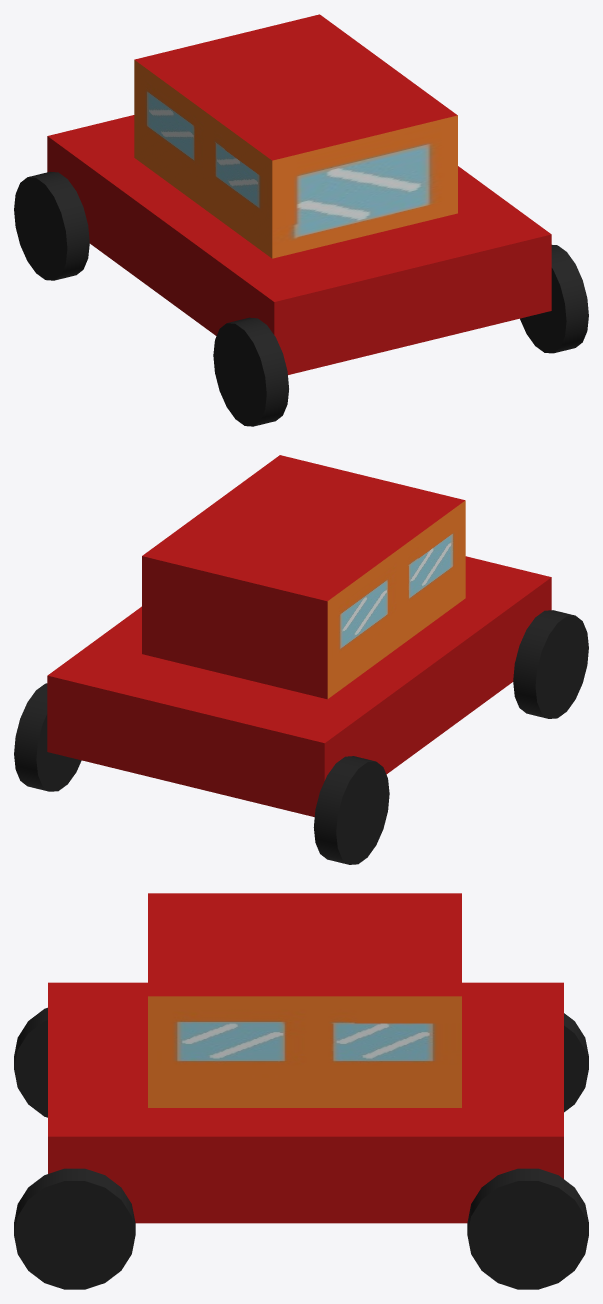
File: car_red.FBX
The picture shows the model from 3 angles, top to bottom: view 1: azimuth 30°, elevation 25°; view 2: azimuth 150°, elevation 25°; view 3: azimuth 270°, elevation 25°; orthographic projection. The views are drawn at different scales.
Parts seen in each view (by area): view 1: Cylinder004; view 2: Cylinder004; view 3: Cylinder004.
Part boxes in pixels (x1,y1,x2,y2): Cylinder004: (14, 14, 588, 426); Cylinder004: (14, 455, 588, 864); Cylinder004: (14, 893, 588, 1289).
Bounding box in the file's own units: 697 × 460 × 947.
Materials: 3 (1 with a texture image).
